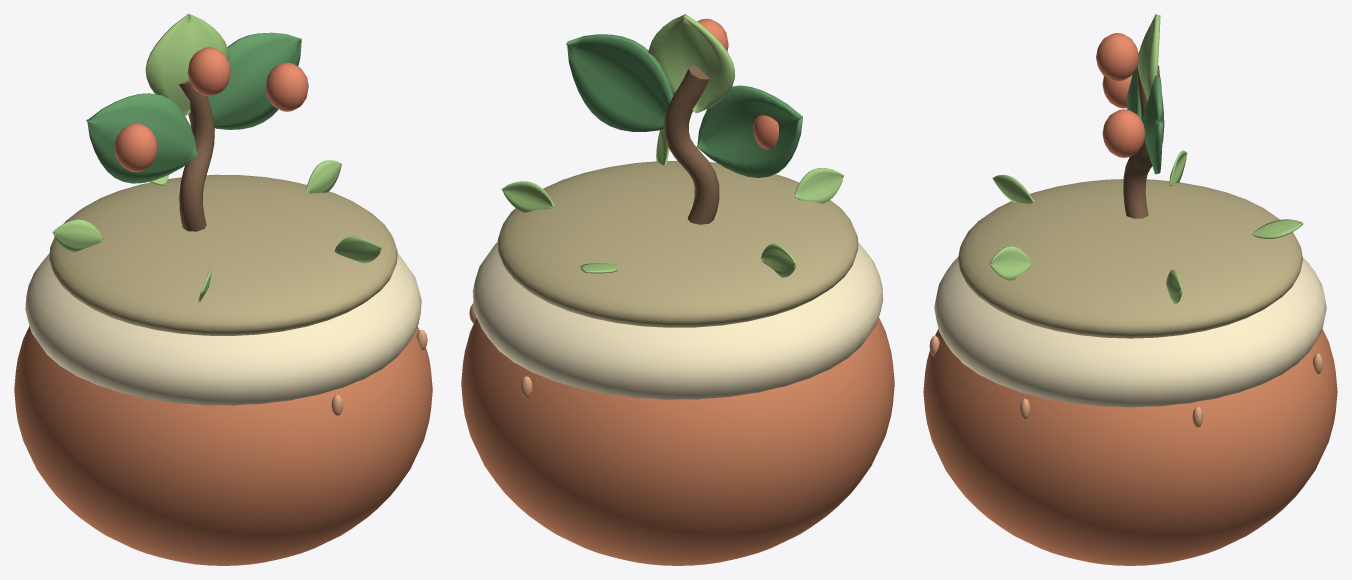
Rendered from Island.fbx.
3 views of the same model, side by side, from view 1: azimuth 30°, elevation 25°; view 2: azimuth 150°, elevation 25°; view 3: azimuth 270°, elevation 25° (orthographic). The views are drawn at different scales.
Parts seen in each view (by area): view 1: Terracotta floating planet, Warm meadow soil, Butter ceramic crown, Left fruit-tree leaf, Right fruit-tree leaf, Crown leaf, The bent little fruit tree, Coral orchard fruit.001, Coral orchard fruit.002, Coral orchard fruit, Meadow sprout.002, Meadow sprout.004 (+1 smaller); view 2: Terracotta floating planet, Warm meadow soil, Butter ceramic crown, Right fruit-tree leaf, Left fruit-tree leaf, Crown leaf, The bent little fruit tree, Meadow sprout.003, Meadow sprout, Meadow sprout.002, Coral orchard fruit; view 3: Terracotta floating planet, Warm meadow soil, Butter ceramic crown, The bent little fruit tree, Coral orchard fruit.001, Coral orchard fruit.002, Right fruit-tree leaf, Crown leaf, Meadow sprout.004, Meadow sprout.003, Meadow sprout.001, Coral orchard fruit.
Part boxes in pixels (x1,y1,x2,y2): Terracotta floating planet: (14,326,432,565); Warm meadow soil: (49,174,397,335); Butter ceramic crown: (25,253,421,405); Left fruit-tree leaf: (86,93,197,183); Right fruit-tree leaf: (207,32,301,129); Crown leaf: (145,14,229,115); The bent little fruit tree: (179,80,214,231); Coral orchard fruit.001: (265,62,308,111); Coral orchard fruit.002: (187,47,230,96); Coral orchard fruit: (114,123,157,172); Meadow sprout.002: (52,219,103,252); Meadow sprout.004: (334,236,381,263); Terracotta floating planet: (461,317,894,565); Warm meadow soil: (497,160,858,327); Butter ceramic crown: (472,242,883,399); Right fruit-tree leaf: (566,34,673,131); Left fruit-tree leaf: (696,85,802,177); Crown leaf: (648,14,734,113); The bent little fruit tree: (664,65,719,224); Meadow sprout.003: (794,168,843,203); Meadow sprout: (501,181,554,212); Meadow sprout.002: (760,243,796,277); Coral orchard fruit: (753,115,778,149); Terracotta floating planet: (923,329,1337,565); Warm meadow soil: (958,179,1302,338); Butter ceramic crown: (934,257,1326,407); The bent little fruit tree: (1123,65,1164,218); Coral orchard fruit.001: (1102,109,1145,157); Coral orchard fruit.002: (1096,33,1138,81); Right fruit-tree leaf: (1141,75,1162,174); Crown leaf: (1137,14,1160,100); Meadow sprout.004: (989,246,1032,280); Meadow sprout.003: (992,175,1034,203); Meadow sprout.001: (1251,219,1303,238); Coral orchard fruit: (1102,75,1132,108).
Bounding box in the file's own units: 192 × 265 × 192.
